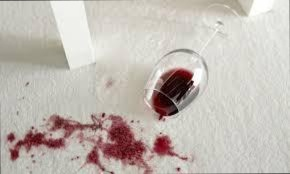wine: (89, 109, 178, 174), (8, 110, 82, 161)
